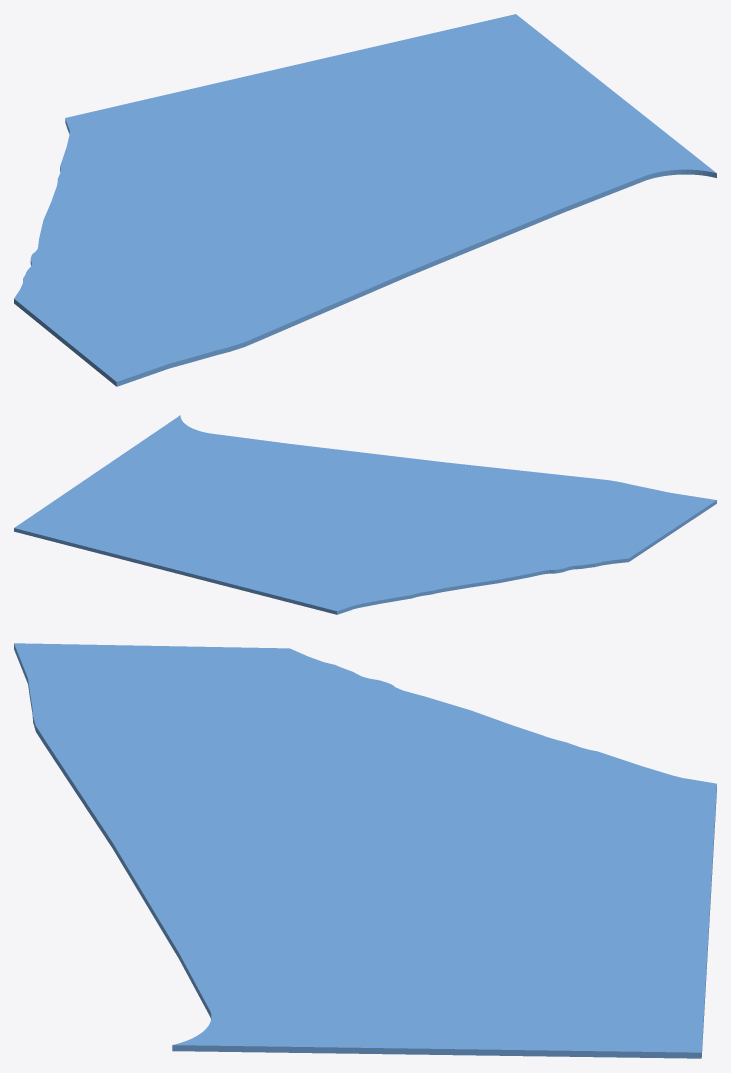
3 views of the same model, one above another, from view 1: azimuth 30°, elevation 25°; view 2: azimuth 150°, elevation 25°; view 3: azimuth 270°, elevation 25° (orthographic). The views are drawn at different scales.
Size of the model in its own units: 444 by 3.05 by 322.
